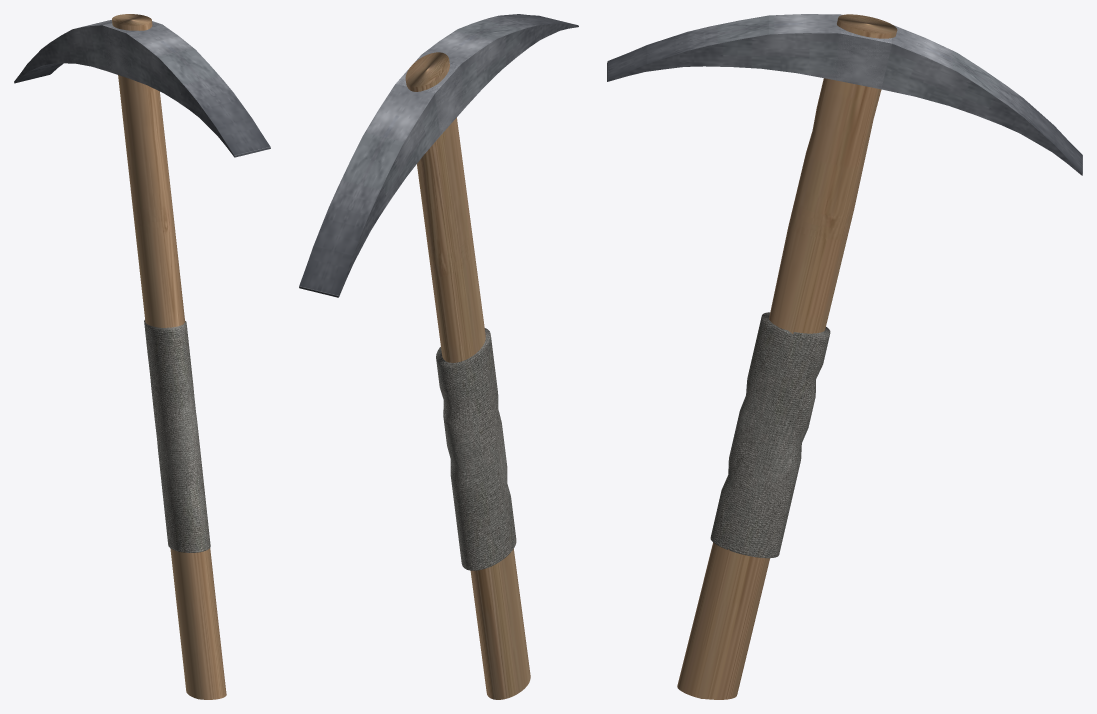
The model's file is wpn_pickaxe.glb.
3 renders of one model, left to right at view 1: azimuth 30°, elevation 25°; view 2: azimuth 150°, elevation 25°; view 3: azimuth 270°, elevation 25°, orthographic. The views are drawn at different scales.
Parts seen in each view (by area): view 1: Handle of pickaxe, Iron part of pickaxe, cloth; view 2: Iron part of pickaxe, Handle of pickaxe, cloth; view 3: Handle of pickaxe, Iron part of pickaxe, cloth.
Part boxes in pixels (x1=…): Handle of pickaxe: x1=112, y1=14, x2=226, y2=699; Iron part of pickaxe: x1=14, y1=20, x2=270, y2=157; cloth: x1=144, y1=320, x2=210, y2=552; Iron part of pickaxe: x1=299, y1=14, x2=578, y2=297; Handle of pickaxe: x1=405, y1=52, x2=530, y2=699; cloth: x1=436, y1=328, x2=516, y2=570; Handle of pickaxe: x1=677, y1=14, x2=897, y2=699; Iron part of pickaxe: x1=607, y1=14, x2=1082, y2=175; cloth: x1=710, y1=312, x2=830, y2=558.
Bounding box in the file's own units: 1.49 × 24.61 × 15.68.
3 materials, 3 textured.
